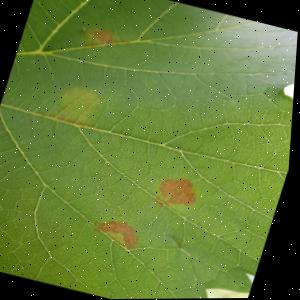Folha: (0, 0, 300, 300)
Fungo: (93, 213, 148, 250), (53, 80, 104, 116), (155, 172, 204, 209), (76, 22, 119, 54)
